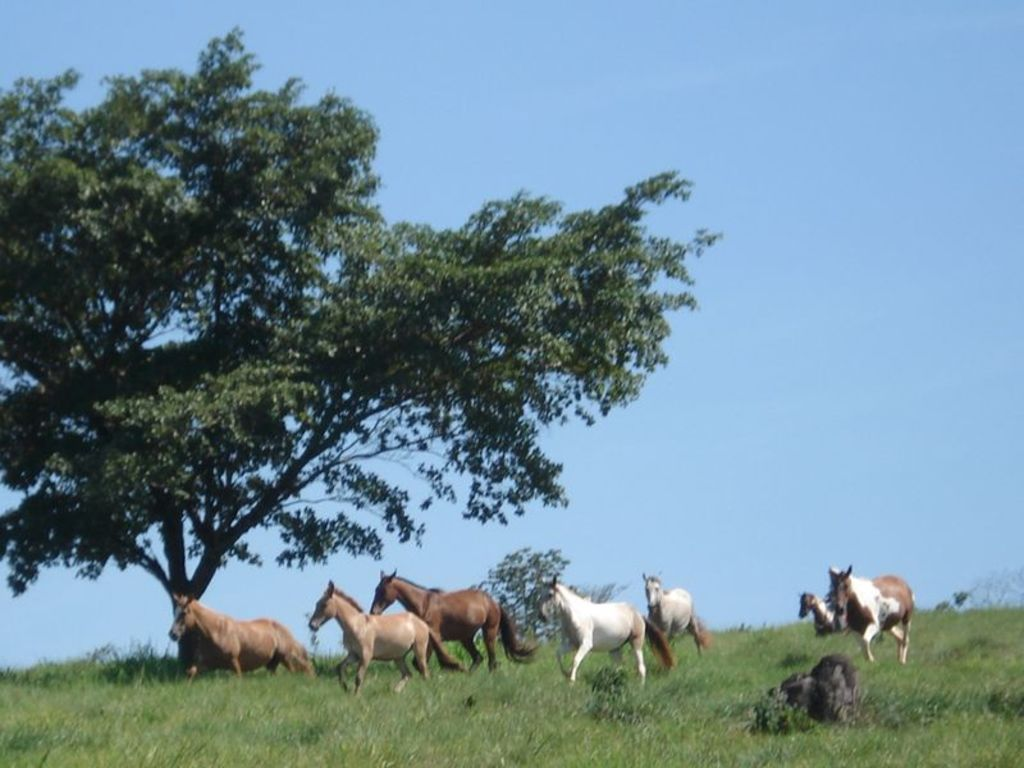horse: (825, 563, 917, 664)
